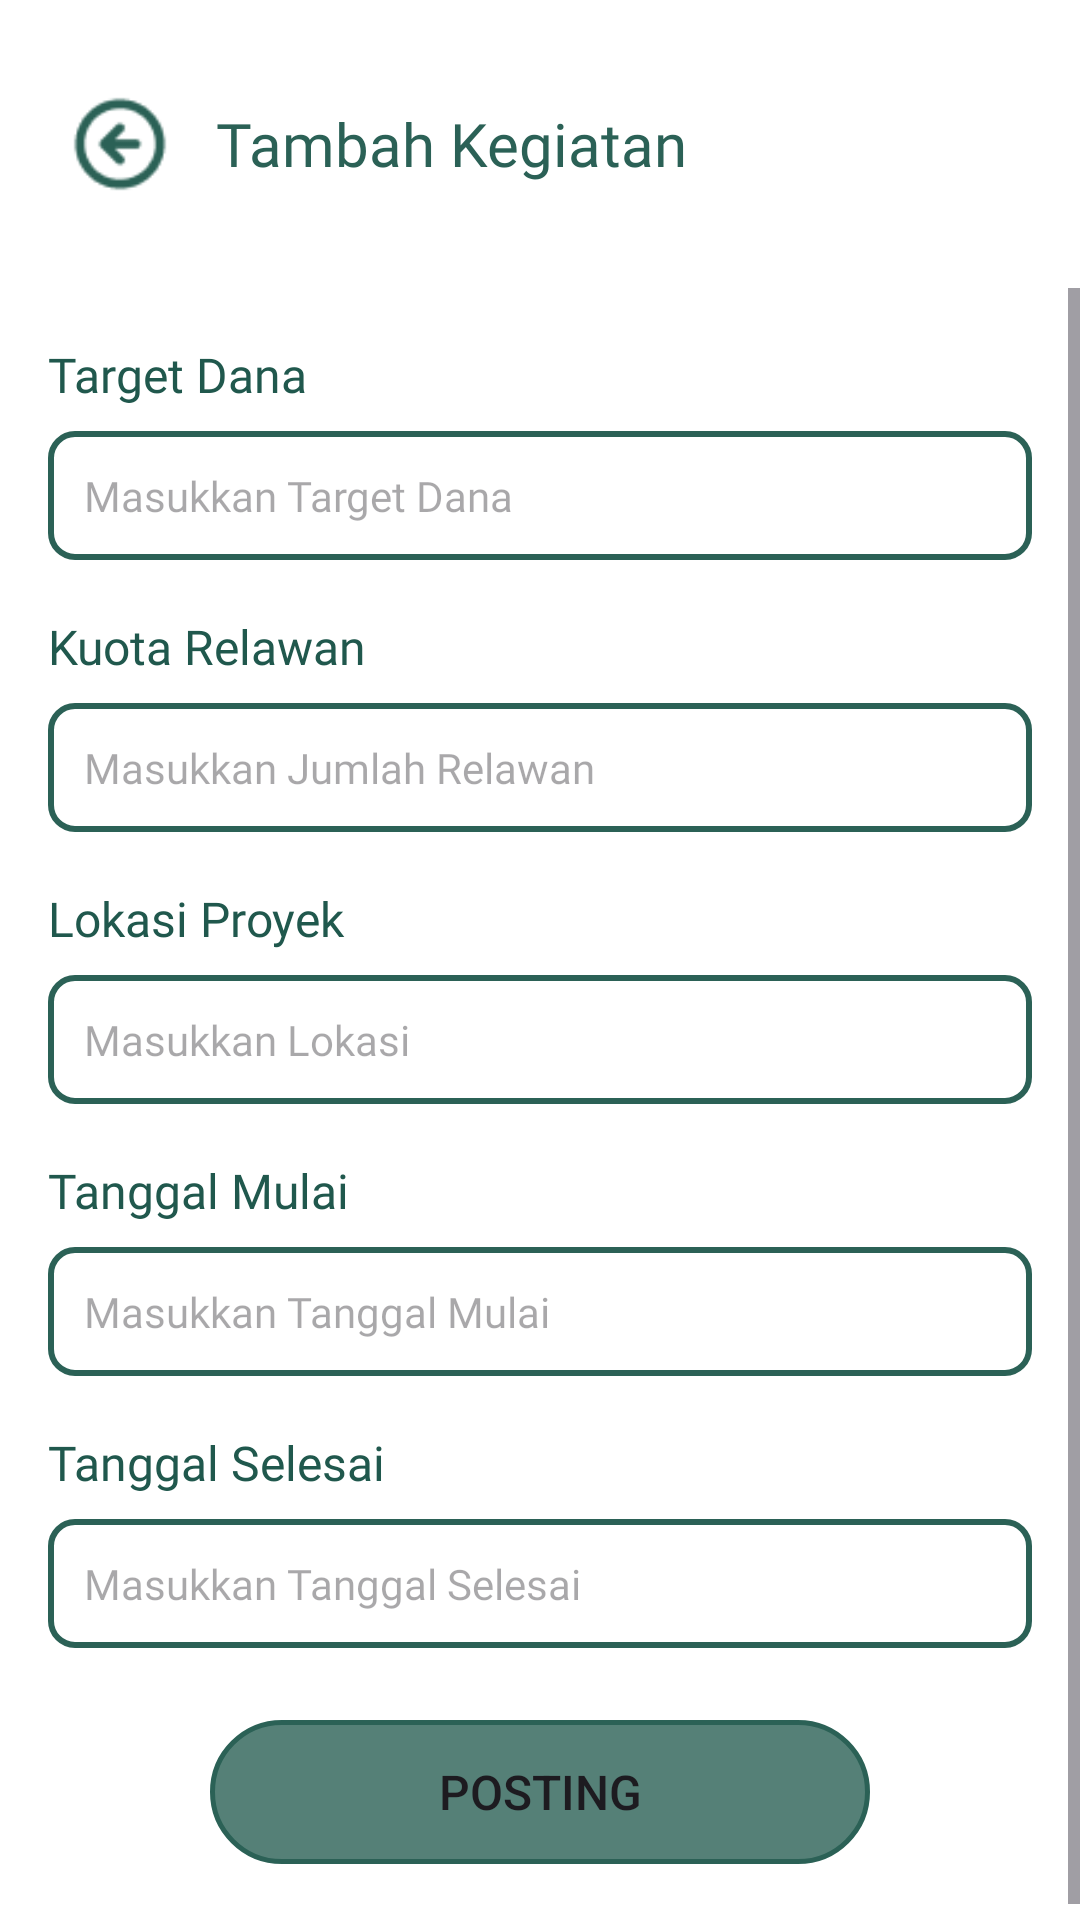

Point at icon controls on the screen. Image size 1080 × 1920, points as (x=x, y=y).
back: (x=120, y=144)
